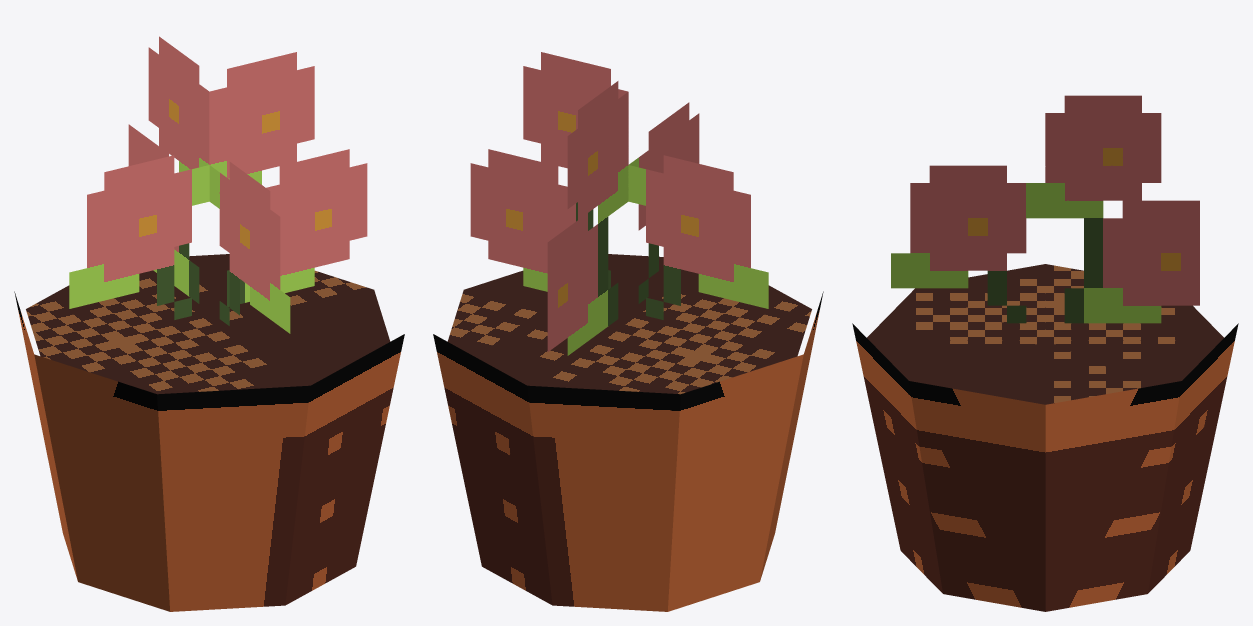
File: pot_L.glb
3 views of the same model, side by side, from view 1: azimuth 30°, elevation 25°; view 2: azimuth 150°, elevation 25°; view 3: azimuth 270°, elevation 25° (orthographic). The views are drawn at different scales.
Visible parts, largest first — view 1: pot_L; view 2: pot_L; view 3: pot_L.
Part boxes in pixels (<box>): pot_L: <box>14,36,404,611</box>; pot_L: <box>433,52,823,611</box>; pot_L: <box>852,95,1238,611</box>.
Size of the model in its own units: 20 by 26 by 20.
Materials: 1 (1 with a texture image).
